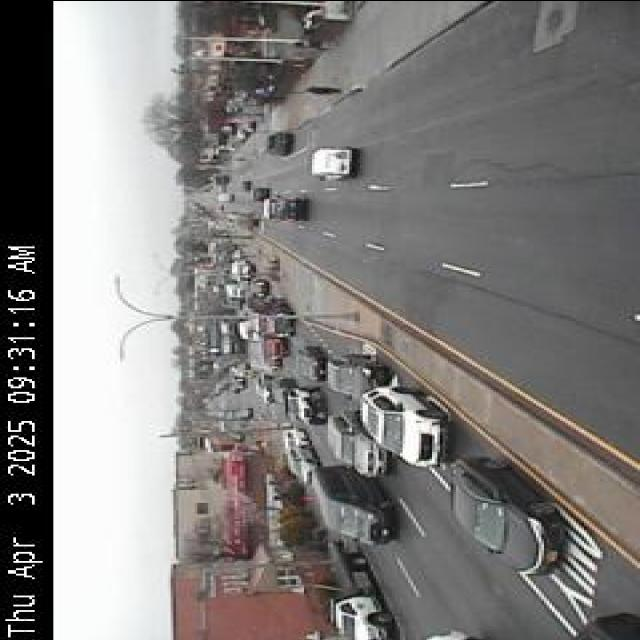open parking: (250, 106, 362, 172)
